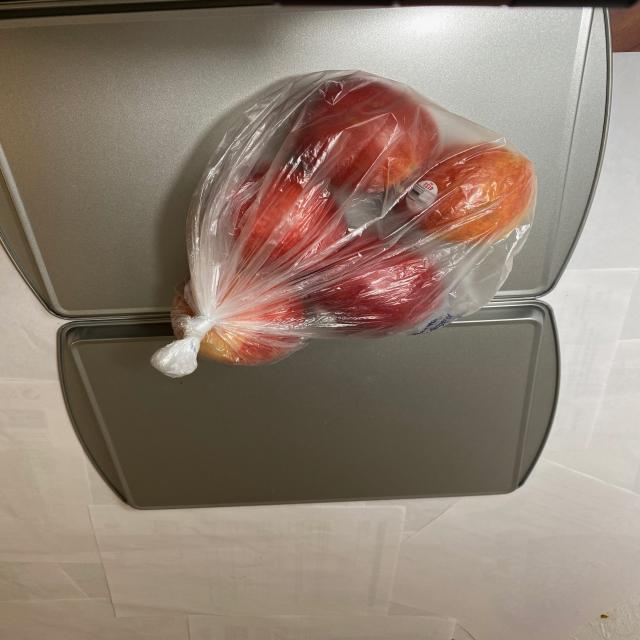apple: (170, 78, 546, 366)
